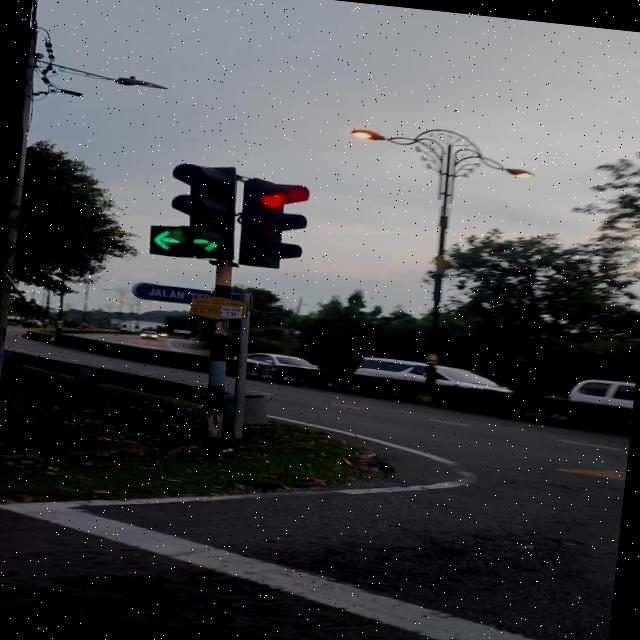green_light: (143, 160, 197, 258), (185, 163, 238, 262)
red_light: (237, 175, 310, 268)
